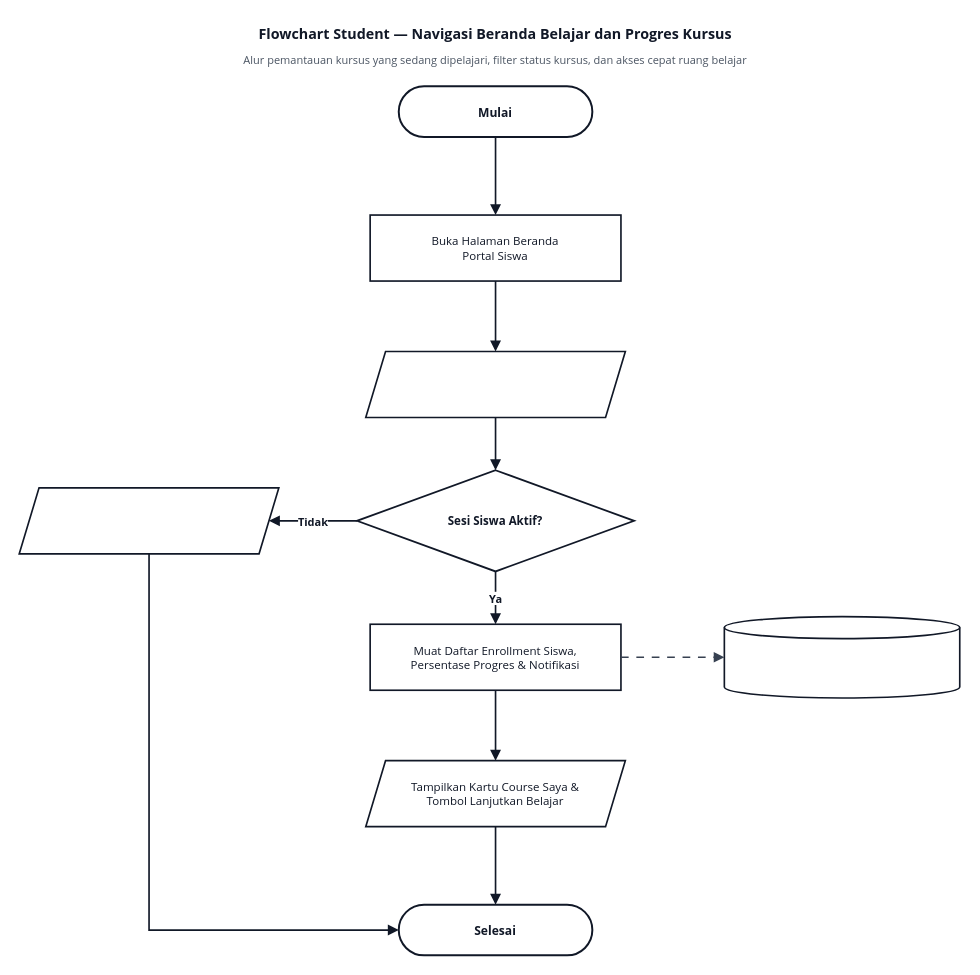
This 980x975 diagram has some shape labels left out. Each missing label, with the centre of its shape:
Arahkan Kembali ke Halaman Login: point 148,520
MySQL: course_enrollments & material_progress: point 841,656
Pilih Tab Filter (Semua / Aktif / Selesai) atau Cari Judul Course: point 495,384
